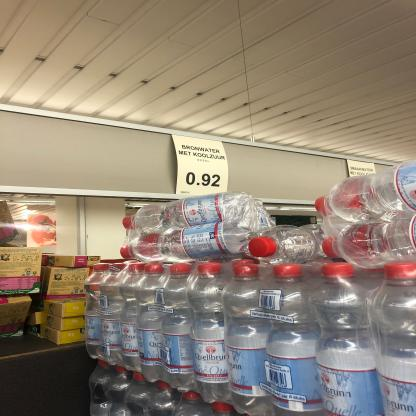prtg: (172, 135, 230, 197)
